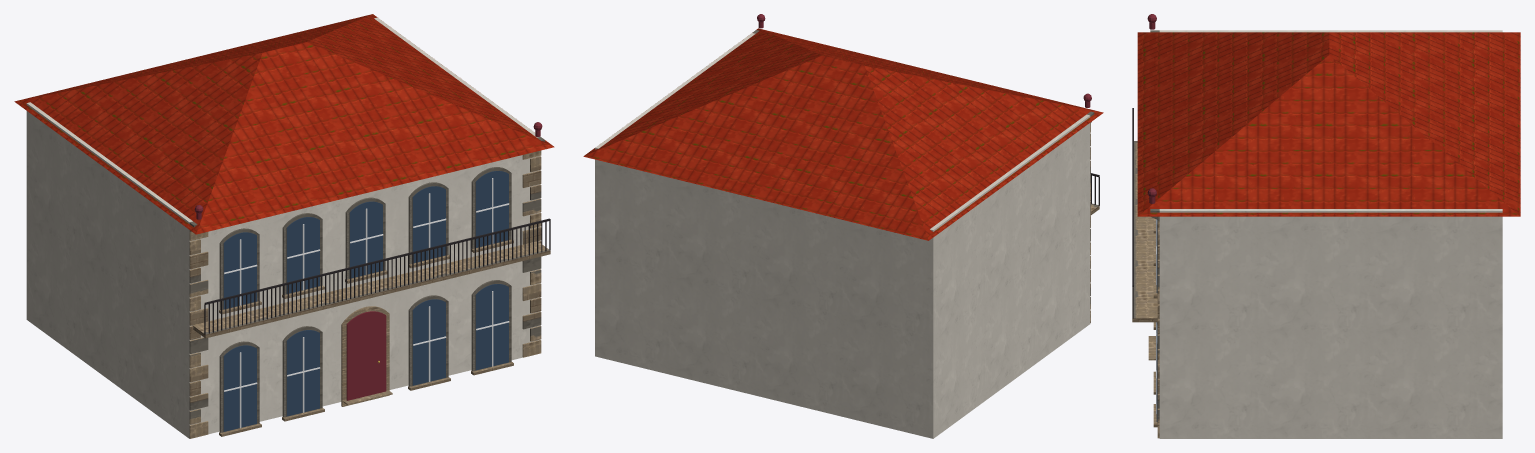
File: sobrado_w12_0.gltf
3 views of the same model, side by side, from view 1: azimuth 30°, elevation 25°; view 2: azimuth 150°, elevation 25°; view 3: azimuth 270°, elevation 25° (orthographic). The views are drawn at different scales.
Visible parts, largest first — view 1: sobrado_w12_0; view 2: sobrado_w12_0; view 3: sobrado_w12_0.
Boxes of the visible parts, box(x1,y1,x2,y2) form: sobrado_w12_0: box(14, 14, 554, 438); sobrado_w12_0: box(583, 14, 1103, 438); sobrado_w12_0: box(1132, 14, 1520, 438).
Size of what is drawn, in the model's own units: 11.96 by 9.37 by 10.65.
Materials: 6 (3 with a texture image).
